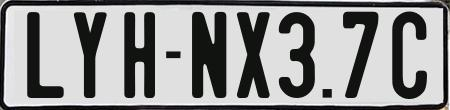3: (277, 12, 315, 99)
7: (341, 12, 380, 99)
C: (389, 8, 428, 102)
H: (122, 9, 157, 99)
L: (25, 9, 63, 101)
N: (190, 12, 228, 99)
X: (234, 12, 268, 104)
Y: (72, 10, 110, 102)
